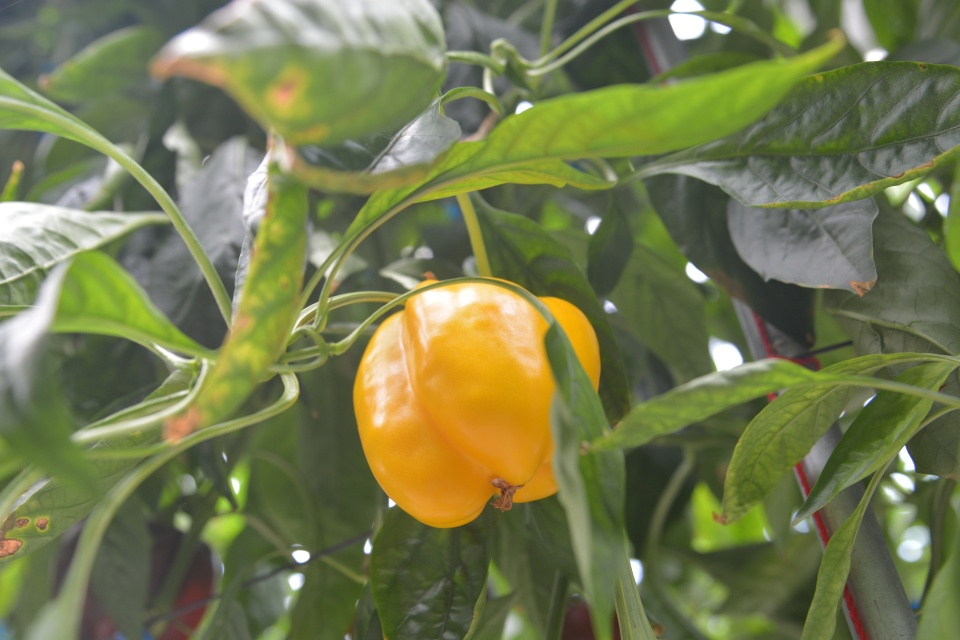fruit: (351, 274, 604, 530), (48, 514, 223, 640)
